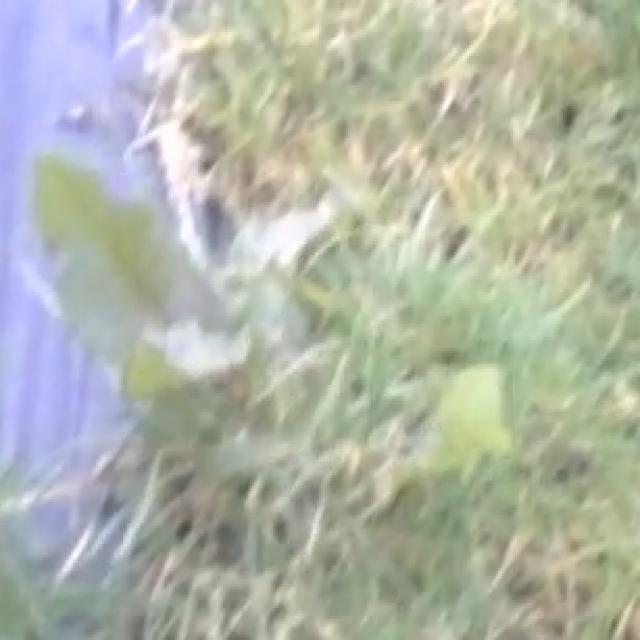organic waste: (7, 85, 535, 561)
